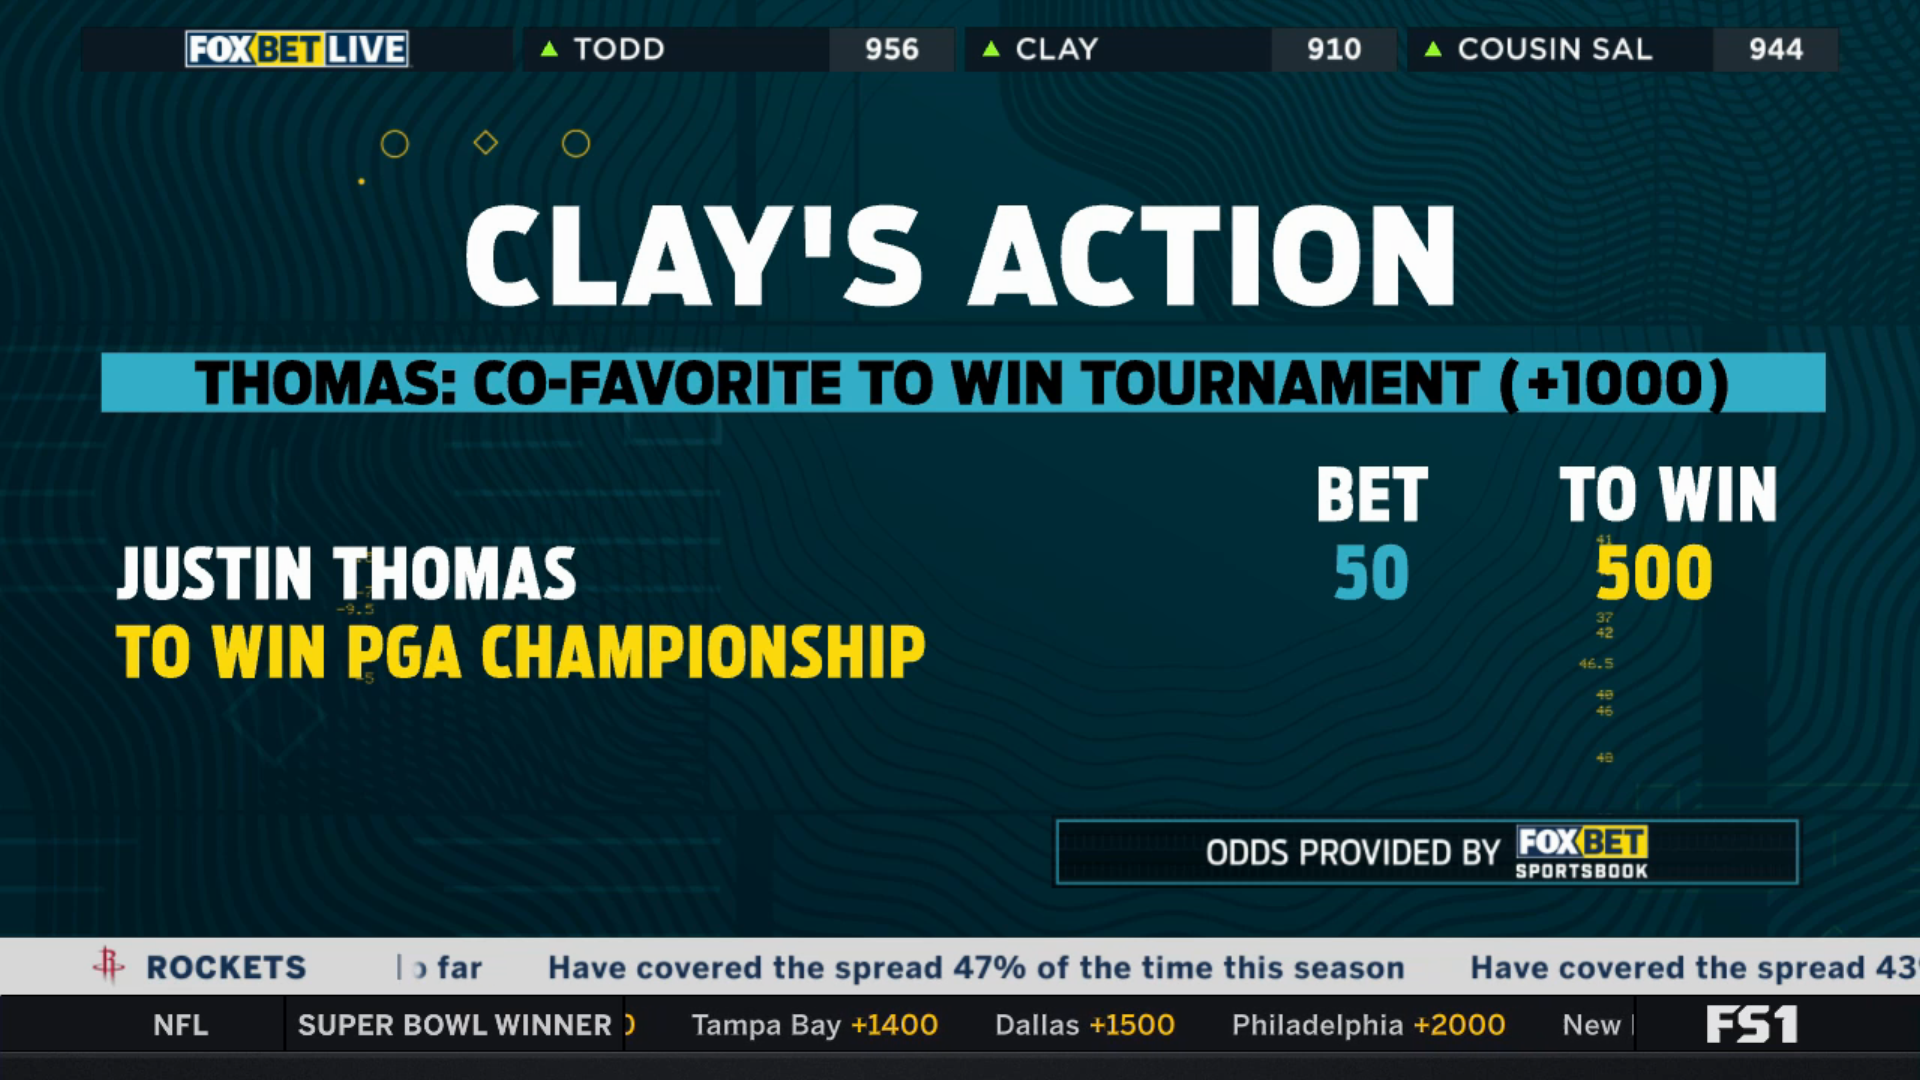Bet: (104, 533, 943, 696)
Bet Amount: (1303, 447, 1448, 620)
Subtitle: (87, 342, 1840, 425)
Title: (455, 189, 1473, 316)
To Win: (1549, 452, 1789, 616)
Top Bar: (73, 18, 1853, 84)
